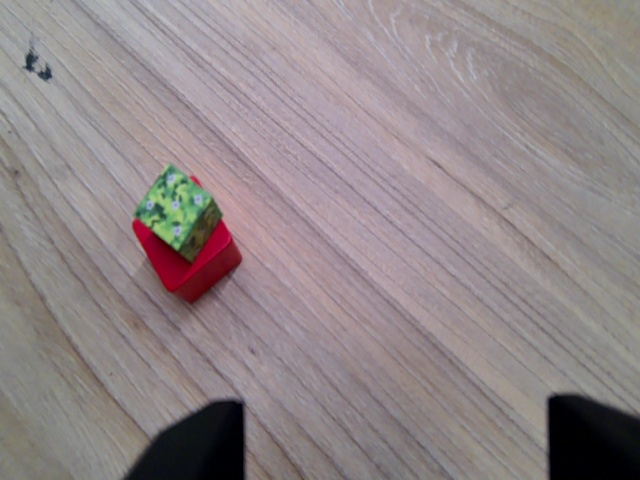grass: (134, 163, 229, 259)
